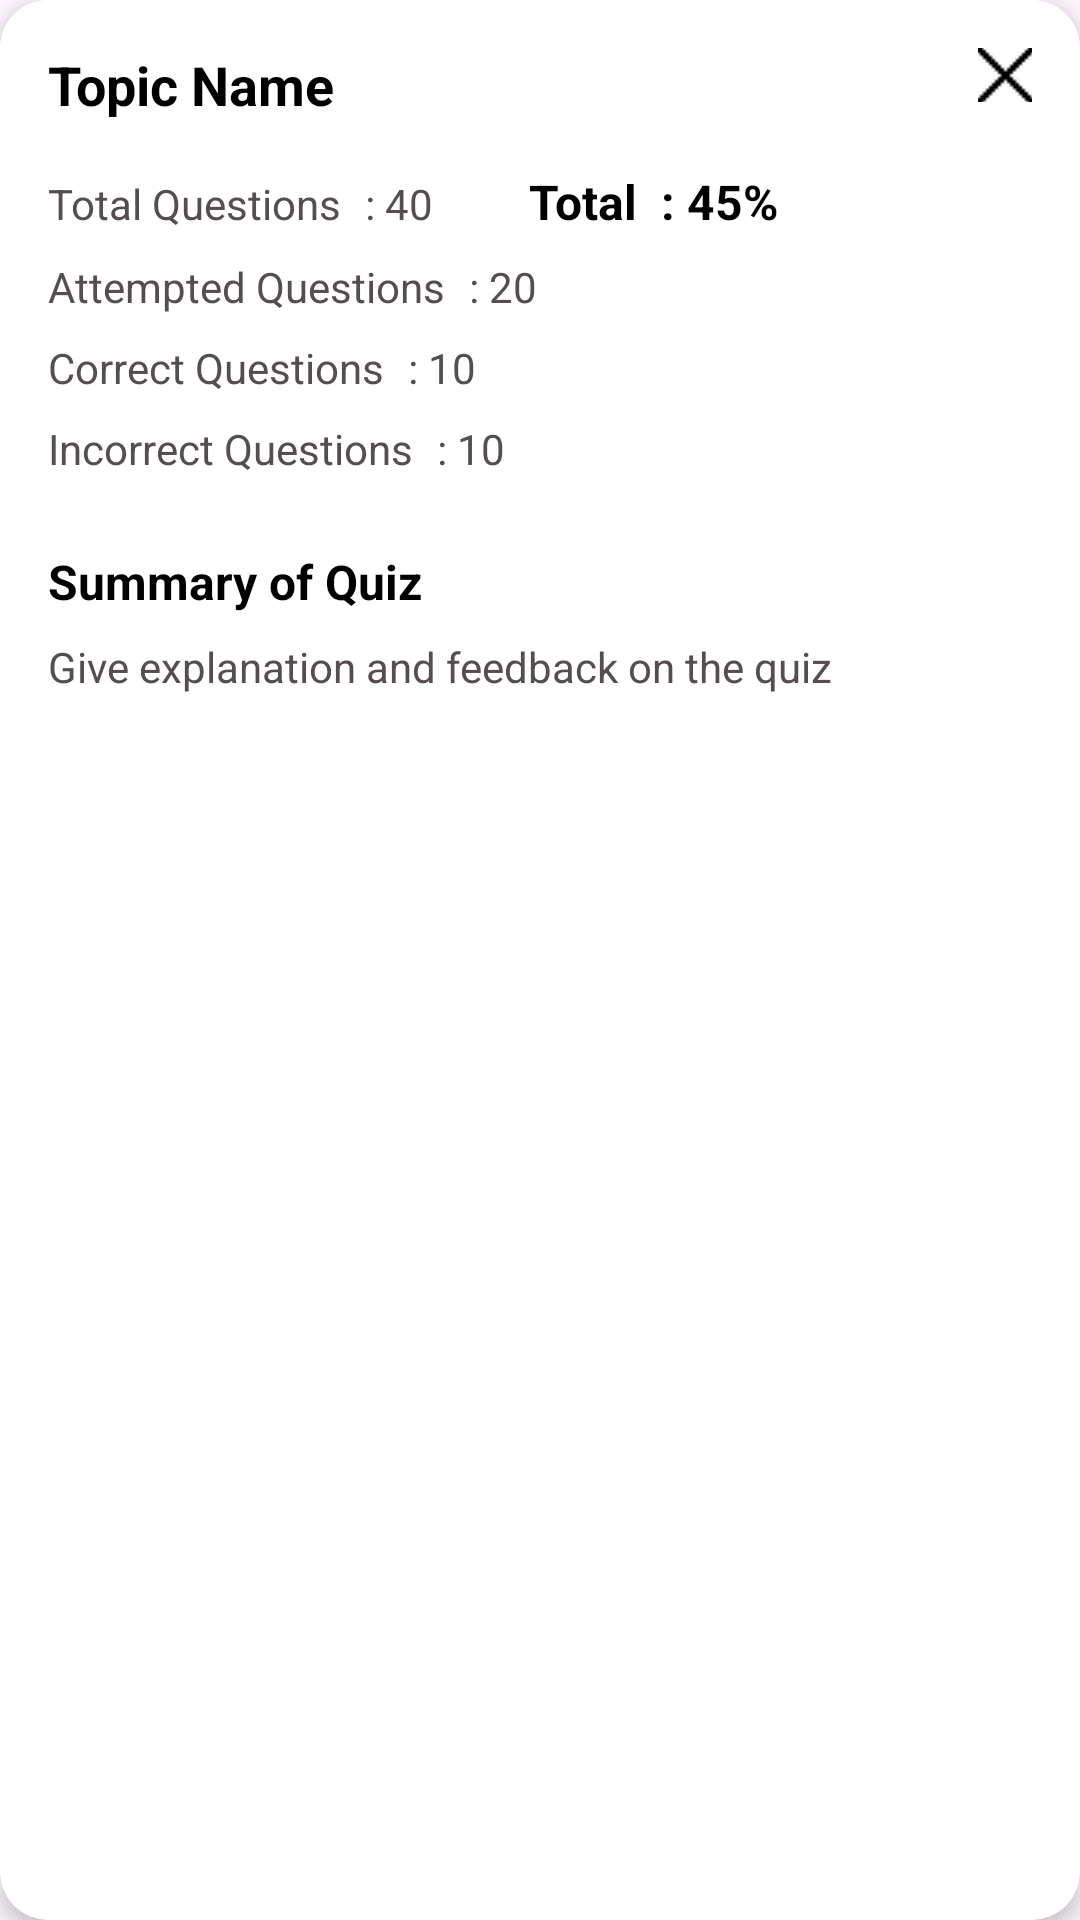

Where icons sit on this 1080×1920 app screen, as (x1, y1, x2, y2):
close: (978, 48, 1032, 102)
